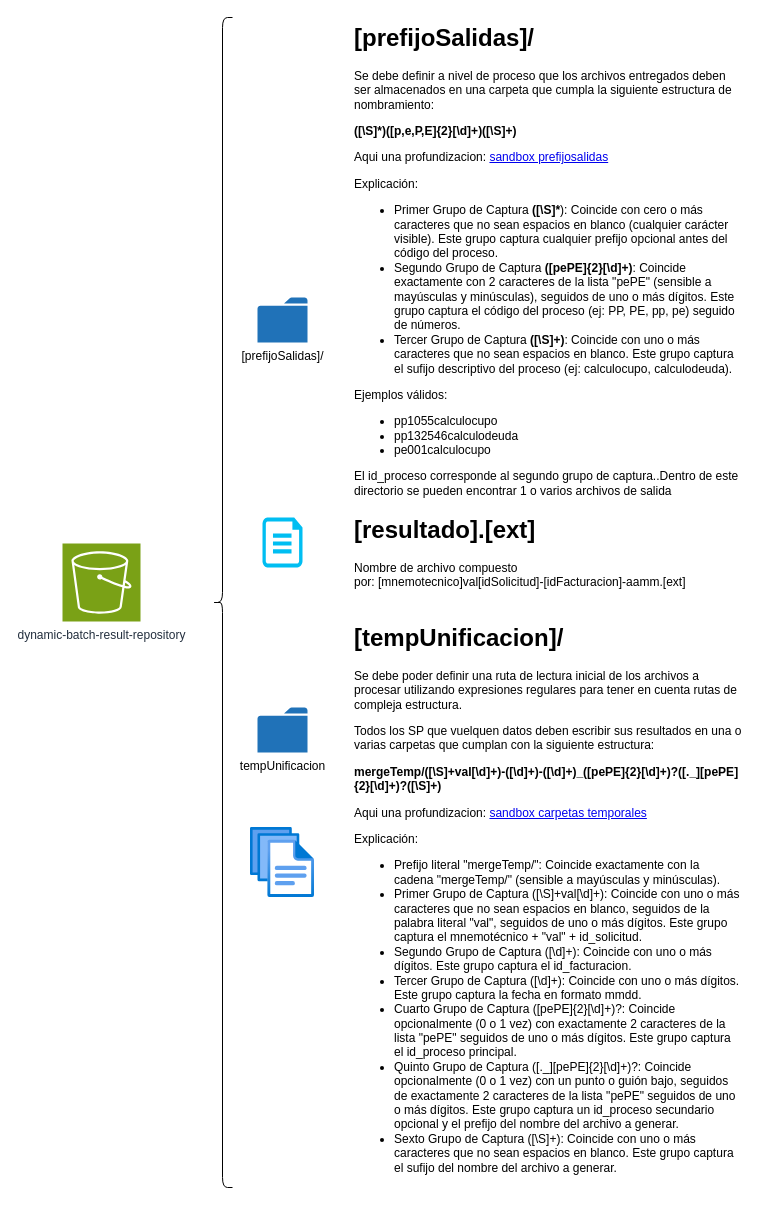
Some shapes in this 759 by 1208 pixel diagram are drawn without their labels. The centre of each missing label's shape, as x and y in pixels:
"[resultado].[ext]" goes at [282,542].
"archvosUnificar" goes at [282,862].
